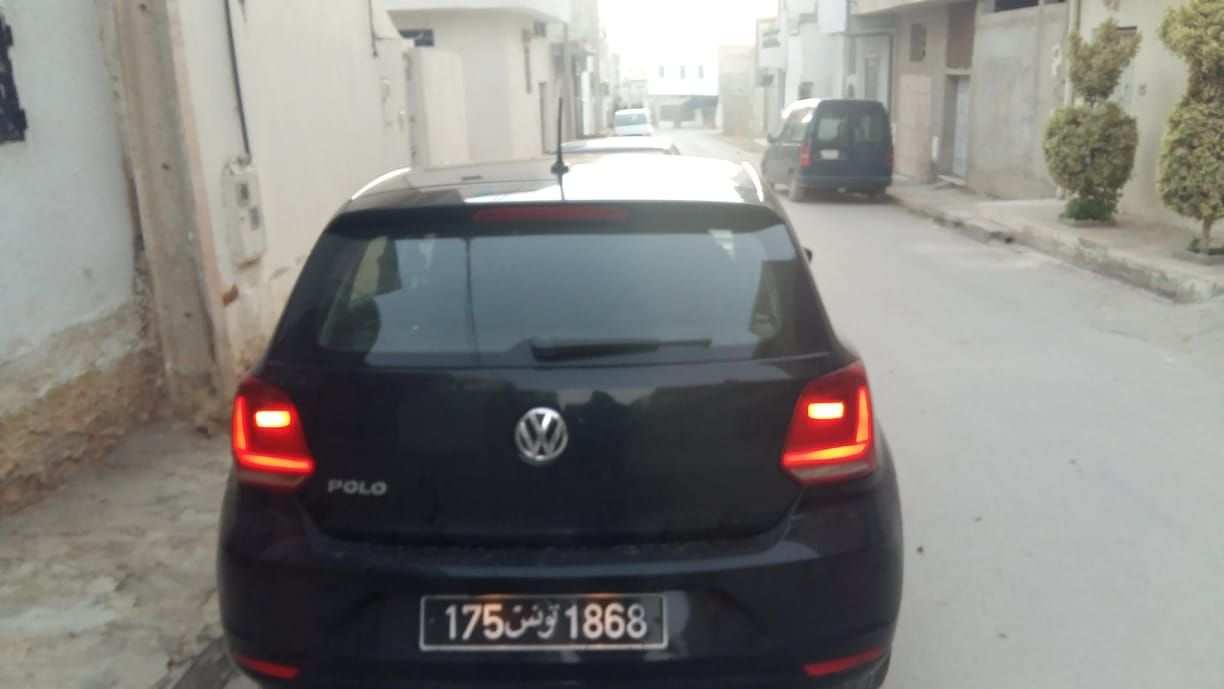LP: (418, 596, 669, 651)
